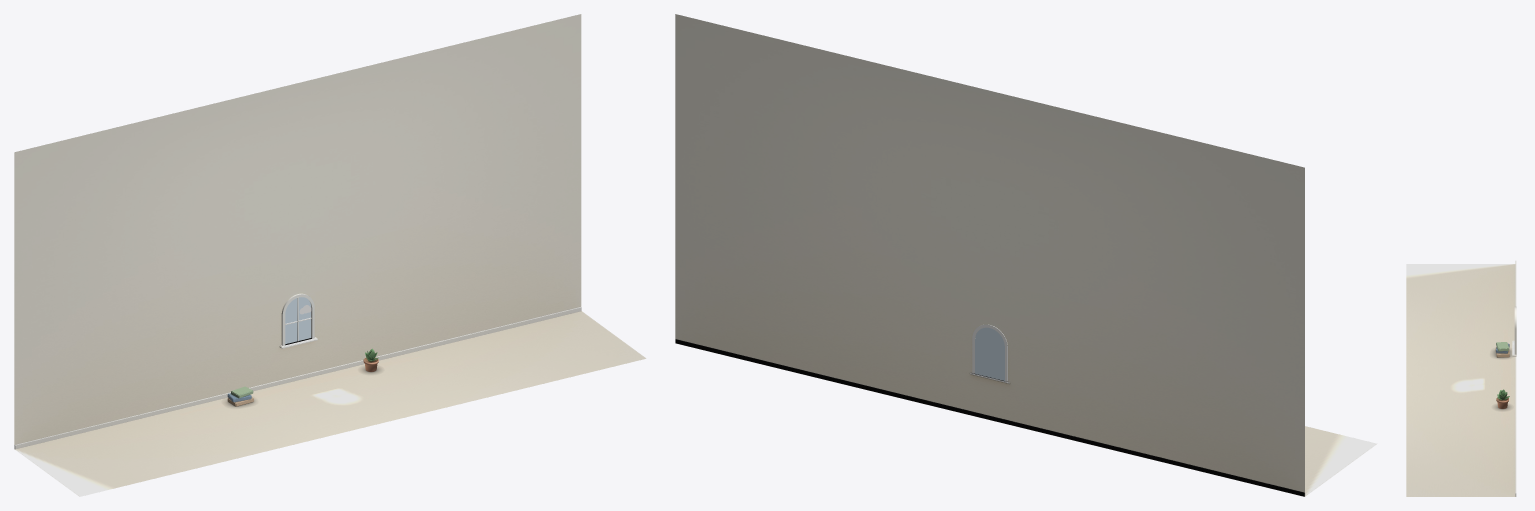
Rendered from stage.glb.
3 views of the same model, side by side, from view 1: azimuth 30°, elevation 25°; view 2: azimuth 150°, elevation 25°; view 3: azimuth 270°, elevation 25° (orthographic). The views are drawn at different scales.
Visible parts, largest first — view 1: Wall, Floor, Baseboard, Window_Glass, Window; view 2: Wall, Baseboard, Floor, Window_Glass; view 3: Floor, Baseboard, Books, Plant, Window.
Boxes of the visible parts, x1,y1,x2,y2 form: Wall: (14, 14, 581, 444); Floor: (14, 311, 646, 496); Baseboard: (14, 307, 581, 449); Window_Glass: (285, 297, 310, 343); Window: (279, 293, 317, 348); Wall: (675, 14, 1304, 496); Baseboard: (675, 339, 1305, 496); Floor: (1305, 426, 1377, 496); Window_Glass: (975, 327, 1004, 380); Floor: (1406, 264, 1515, 496); Baseboard: (1515, 260, 1516, 496); Books: (1495, 342, 1509, 357); Plant: (1496, 389, 1509, 408); Window: (1512, 306, 1516, 356).
Bounding box in the file's own units: 40 × 20 × 8.32.
10 materials, 8 textured.
